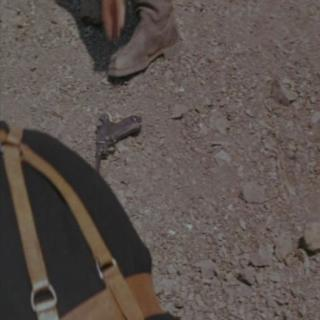gun: (84, 102, 146, 171)
